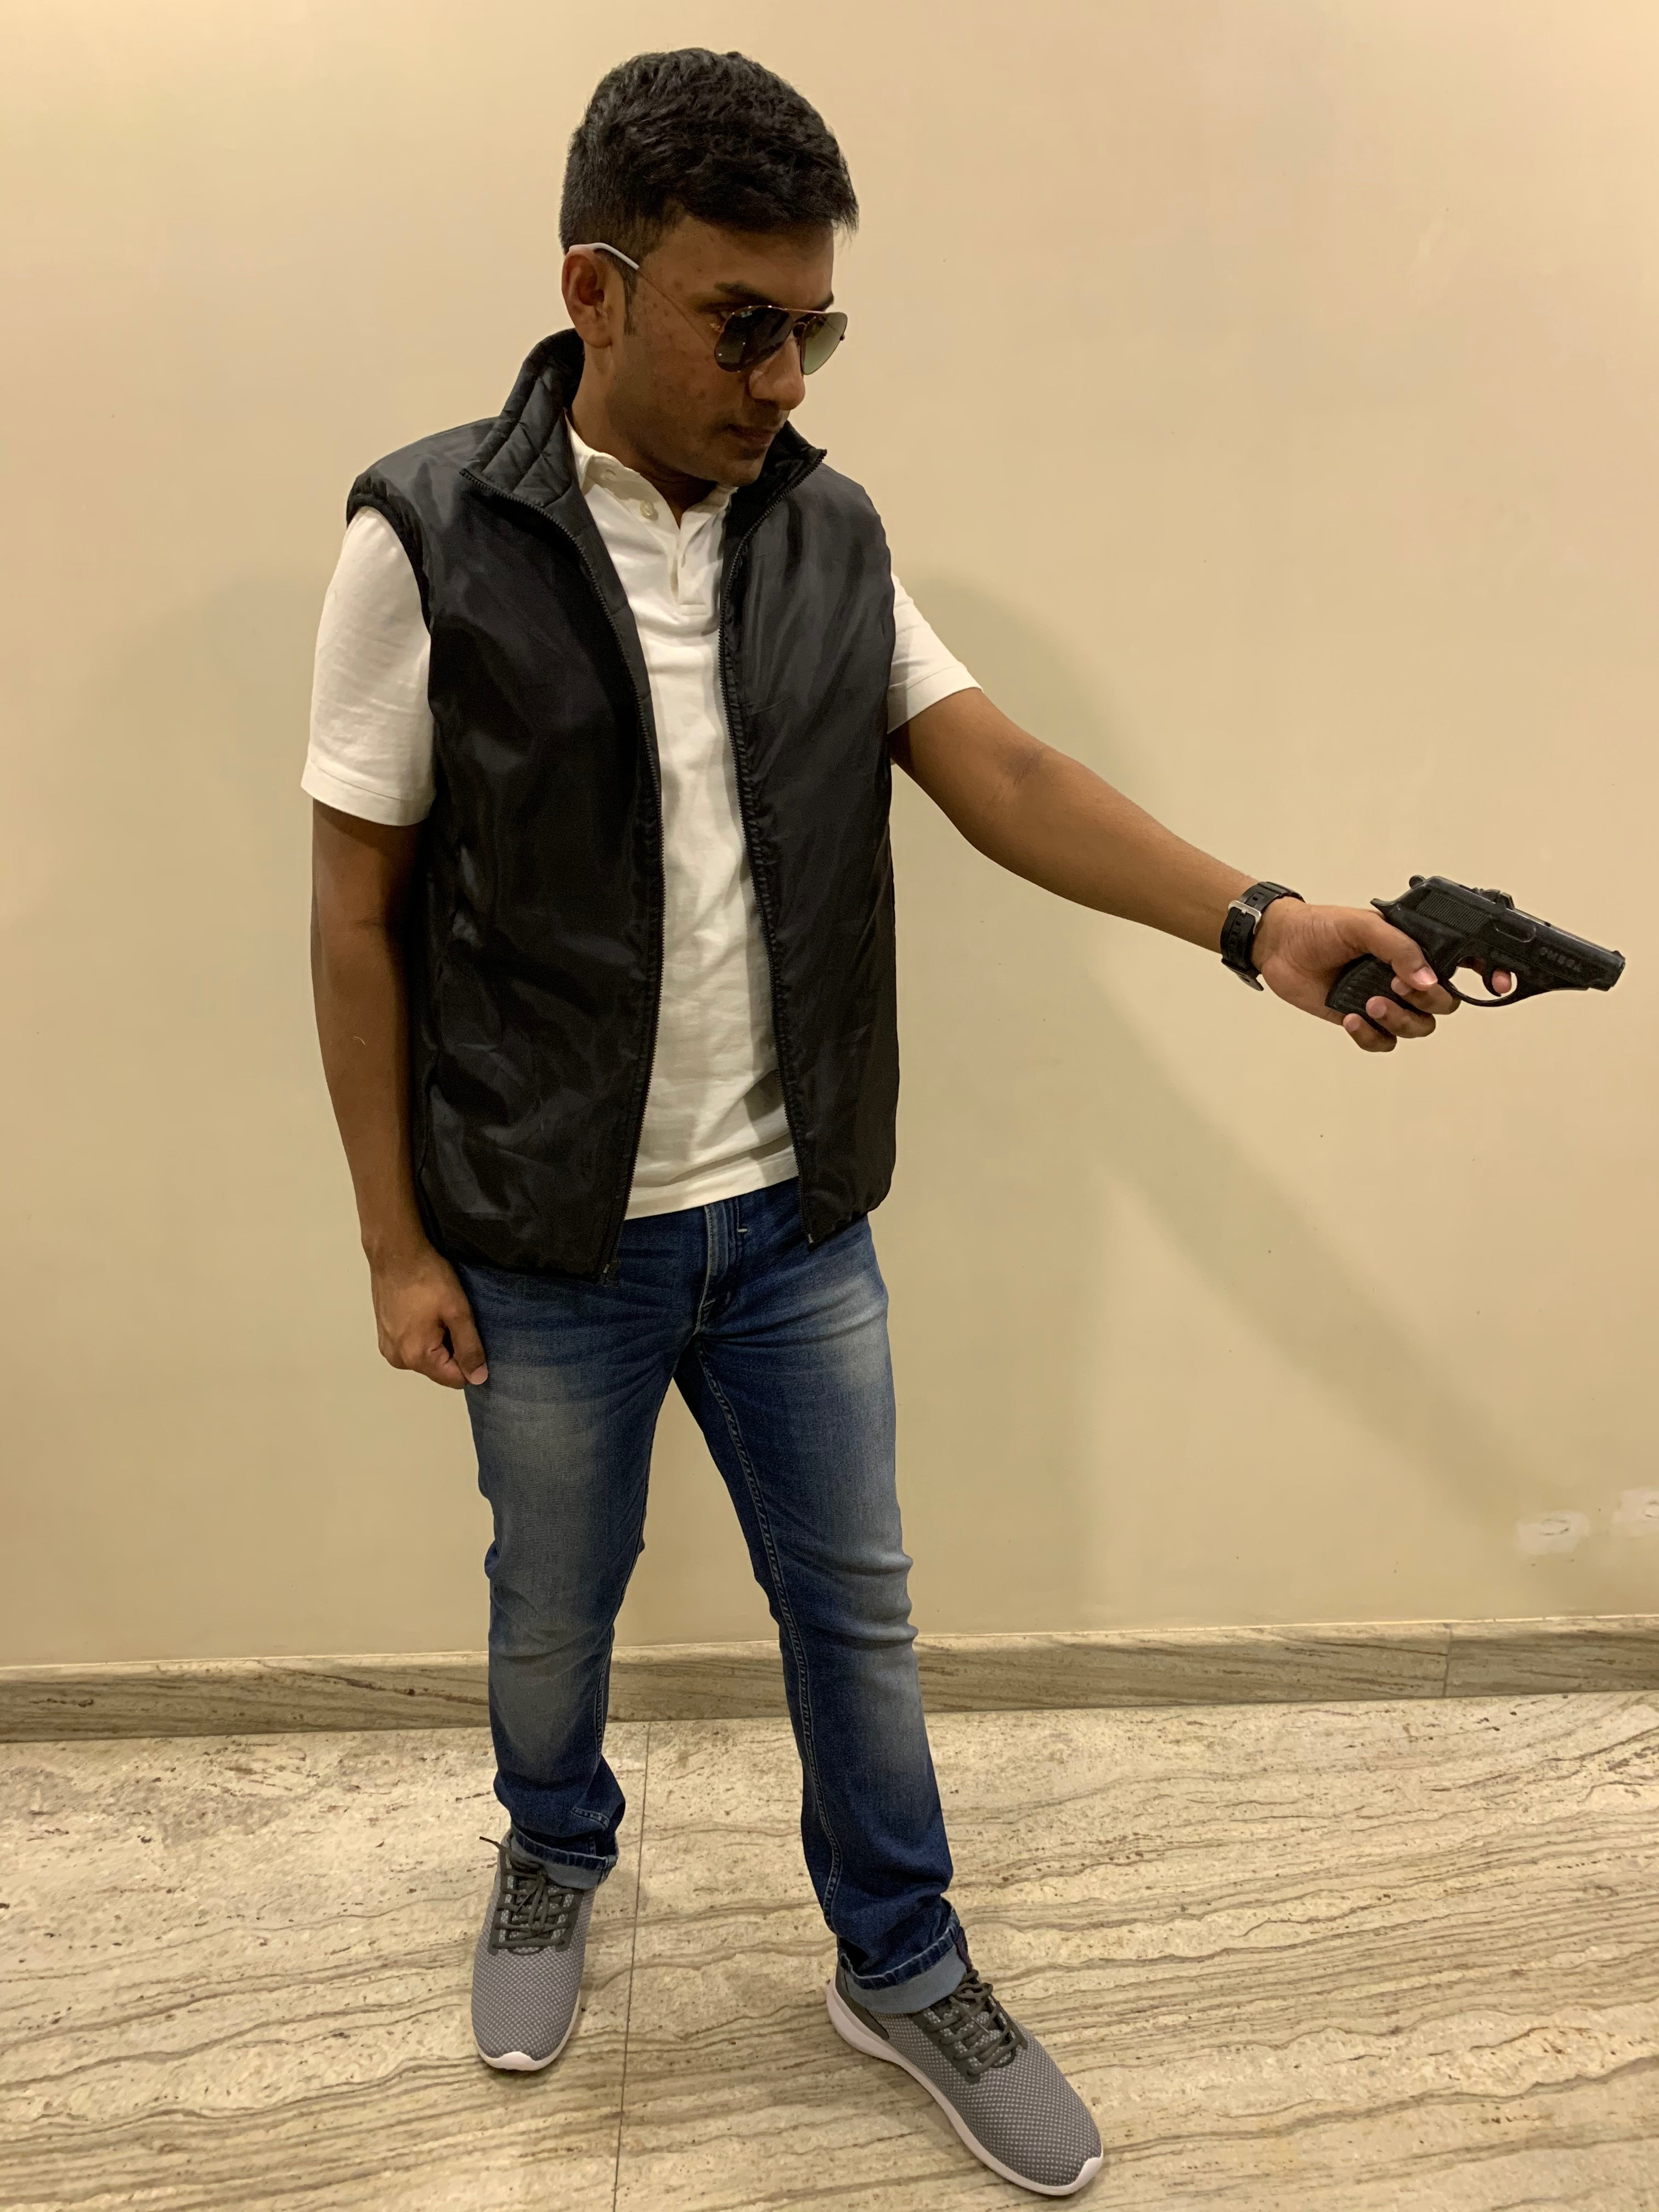gun: (1319, 869, 1629, 1075)
